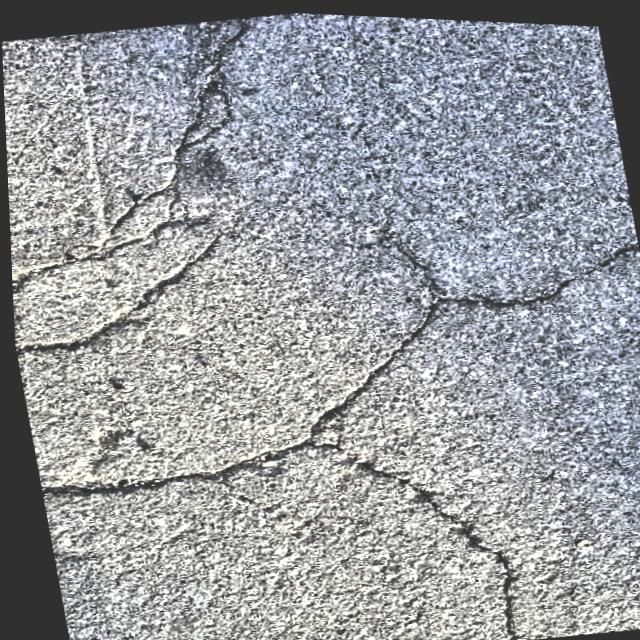cracks: (13, 69, 241, 350), (324, 245, 633, 420), (344, 449, 523, 640), (42, 443, 357, 495)
